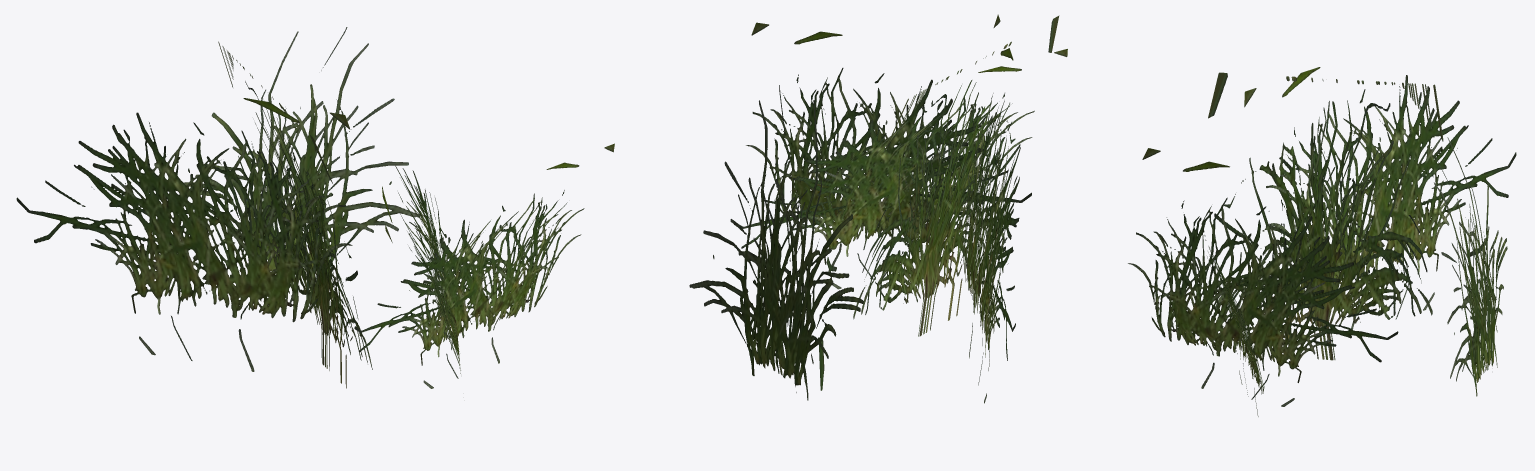
The model's file is meadow_grass_002_b_LOD2.gltf.
3 renders of one model, left to right at view 1: azimuth 30°, elevation 25°; view 2: azimuth 150°, elevation 25°; view 3: azimuth 270°, elevation 25°, orthographic. The views are drawn at different scales.
Parts seen in each view (by area): view 1: meadow_grass_002_b_LOD2; view 2: meadow_grass_002_b_LOD2; view 3: meadow_grass_002_b_LOD2.
Part boxes in pixels (bbox=[...]): meadow_grass_002_b_LOD2: bbox=[16, 27, 614, 388]; meadow_grass_002_b_LOD2: bbox=[689, 14, 1067, 403]; meadow_grass_002_b_LOD2: bbox=[1128, 67, 1516, 416].
Bounding box in the file's own units: 1.1 × 0.6866 × 1.03.
1 material, 1 textured.
